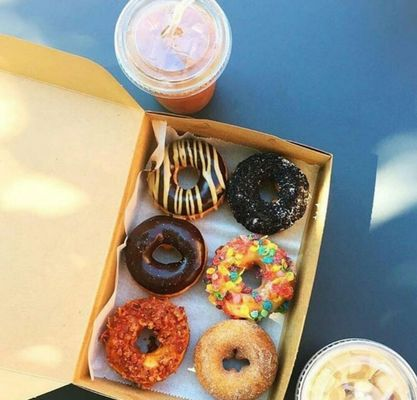pizza: (113, 1, 233, 115)
sushi: (295, 339, 416, 398)
